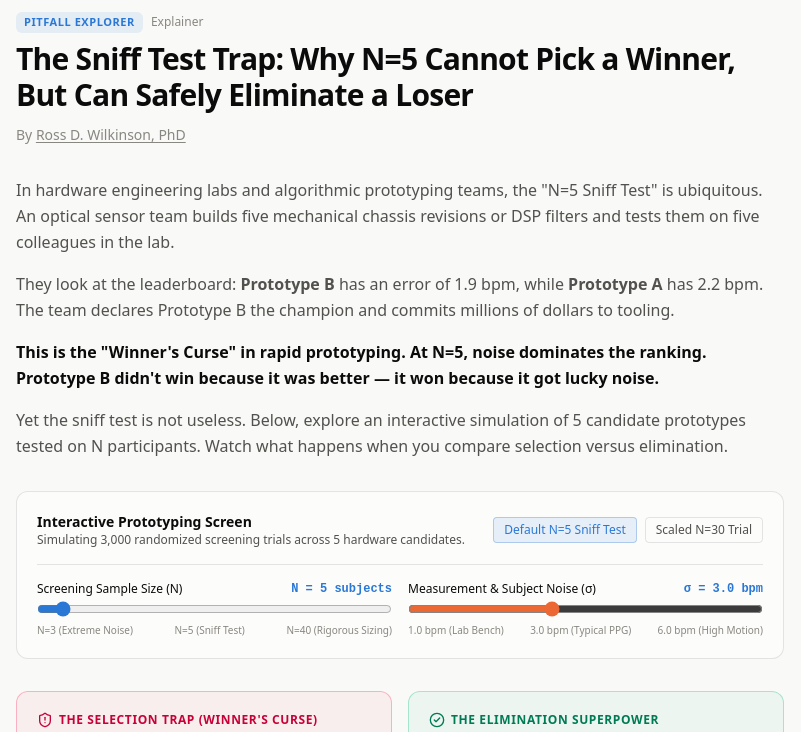
it: SniffTestExplainerPage › updates sample size when using quick presets and sliders
This screenshot has width=801, height=732.
Expected: the text "N = 5 subjects" is shown, [291,580,392,596]
Click the button "Scaled N=30 Trial" at (704, 530), box [645,516,763,542]
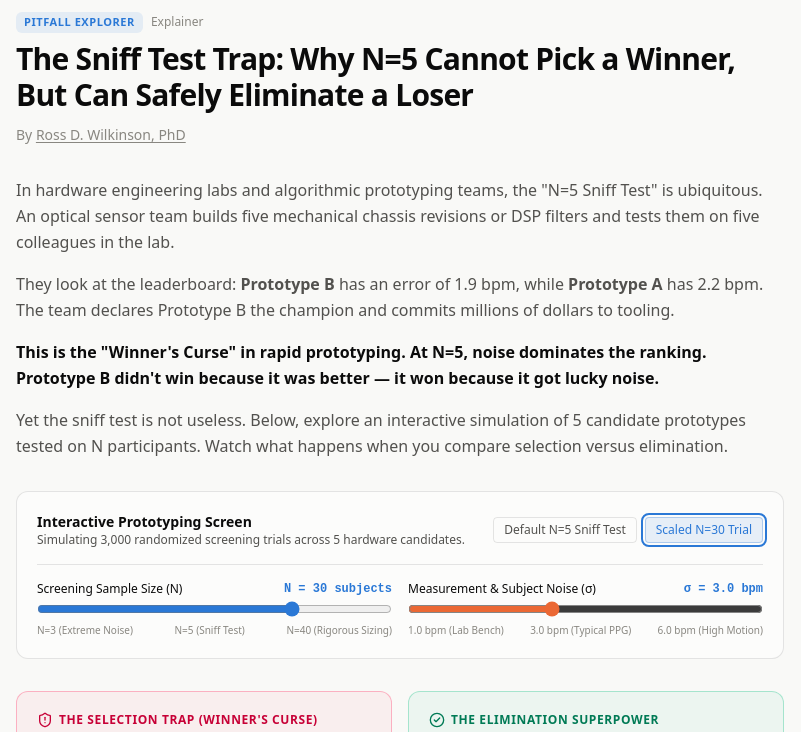
Expected: the text "N = 30 subjects" is shown, [284,580,392,596]
Adjust the noise slider
Set the slider labelled "Measurement & Subject Noise (σ) σ = 3.0 bpm" to "4.5" at (653, 608), box [408,600,763,616]
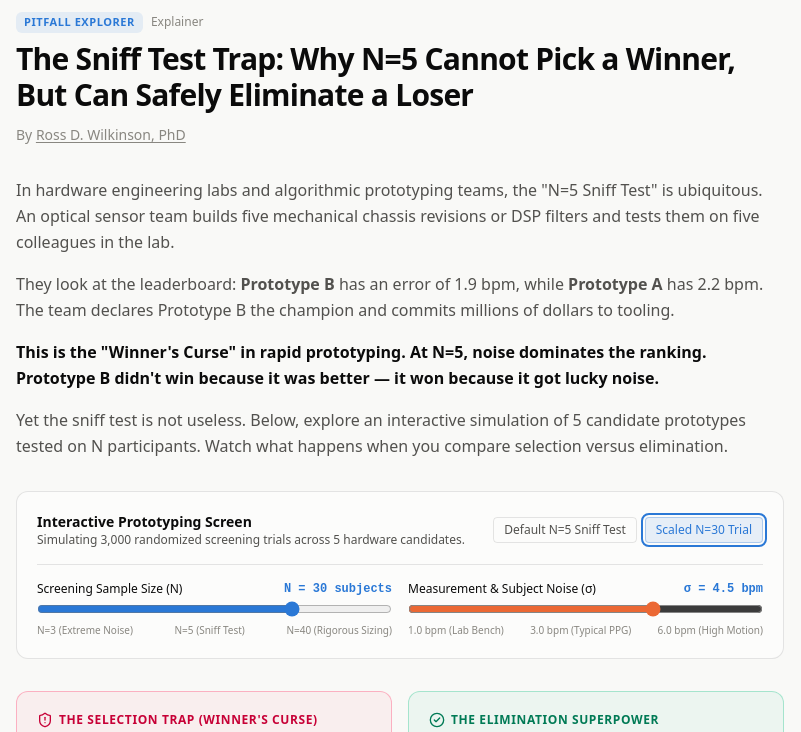
Expected: the text "σ = 4.5 bpm" is shown, [684,580,763,596]
Click the button "Default N=5 Sniff Test" at (565, 530), box [493,516,637,542]
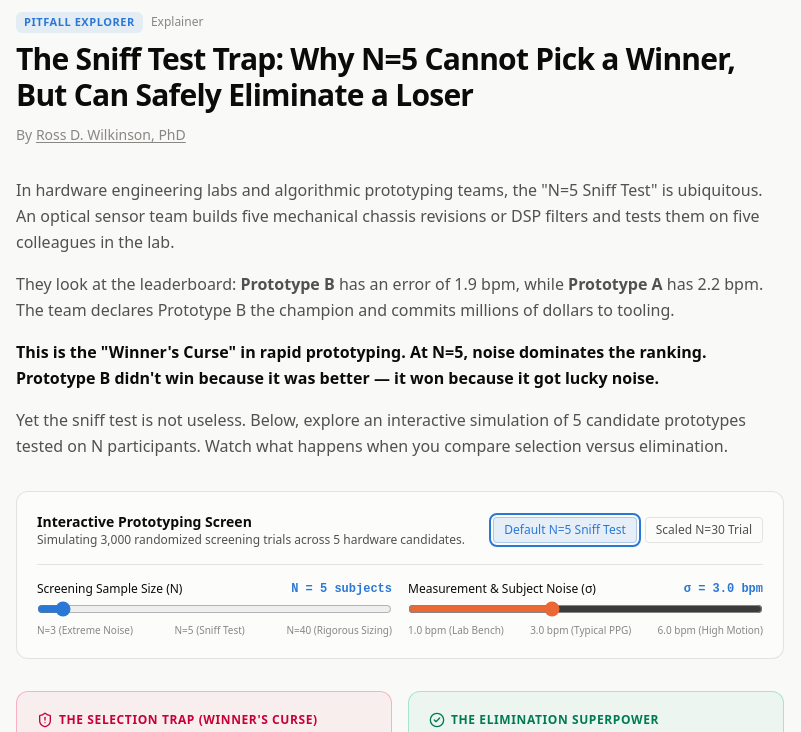
Expected: the text "N = 5 subjects" is shown, [291,580,392,596]
